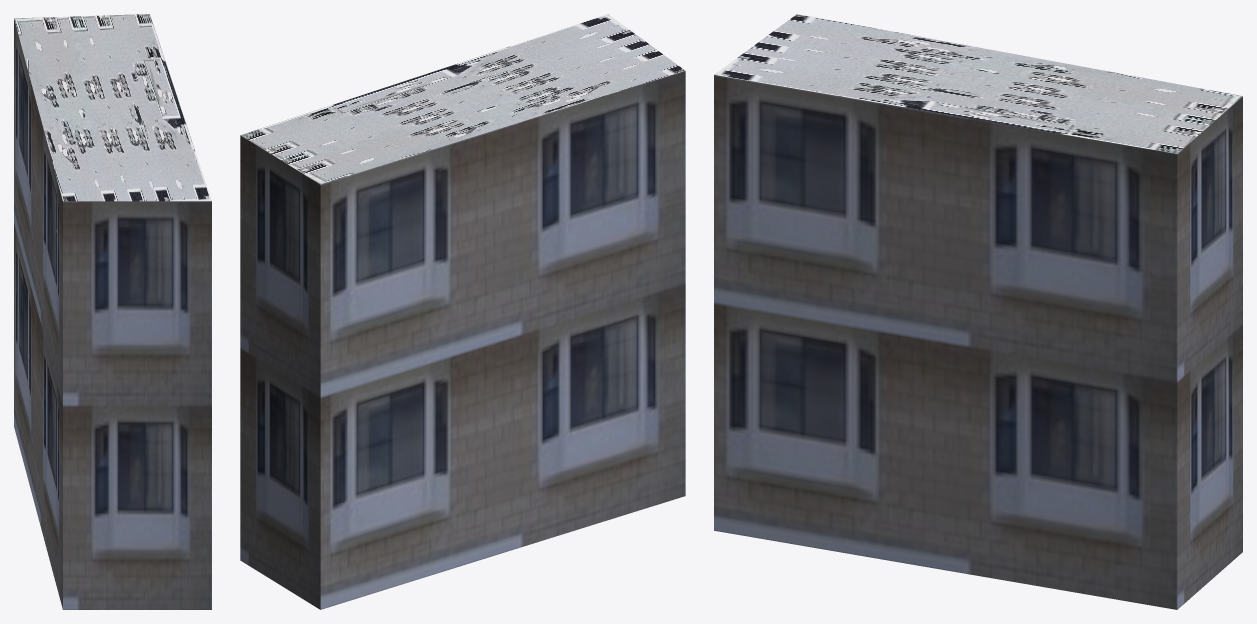
The model's file is ResTex__2844.fbx.
The picture shows the model from 3 angles, left to right: view 1: azimuth 30°, elevation 25°; view 2: azimuth 150°, elevation 25°; view 3: azimuth 270°, elevation 25°; orthographic projection. The views are drawn at different scales.
Parts seen in each view (by area): view 1: CityEngineMaterial_3_m, CityEngineMaterial_2_m; view 2: CityEngineMaterial_3_m, CityEngineMaterial_2_m; view 3: CityEngineMaterial_3_m, CityEngineMaterial_2_m.
Boxes of the visible parts, x1=… form: CityEngineMaterial_3_m: x1=14, y1=19, x2=211, y2=609; CityEngineMaterial_2_m: x1=14, y1=14, x2=211, y2=201; CityEngineMaterial_3_m: x1=240, y1=71, x2=685, y2=609; CityEngineMaterial_2_m: x1=241, y1=14, x2=685, y2=184; CityEngineMaterial_3_m: x1=714, y1=75, x2=1242, y2=609; CityEngineMaterial_2_m: x1=714, y1=14, x2=1242, y2=153.
Bounding box in the file's own units: 3.95 × 6 × 6.31.
2 materials, 2 textured.
